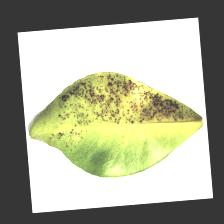canker: (90, 80, 164, 120)
